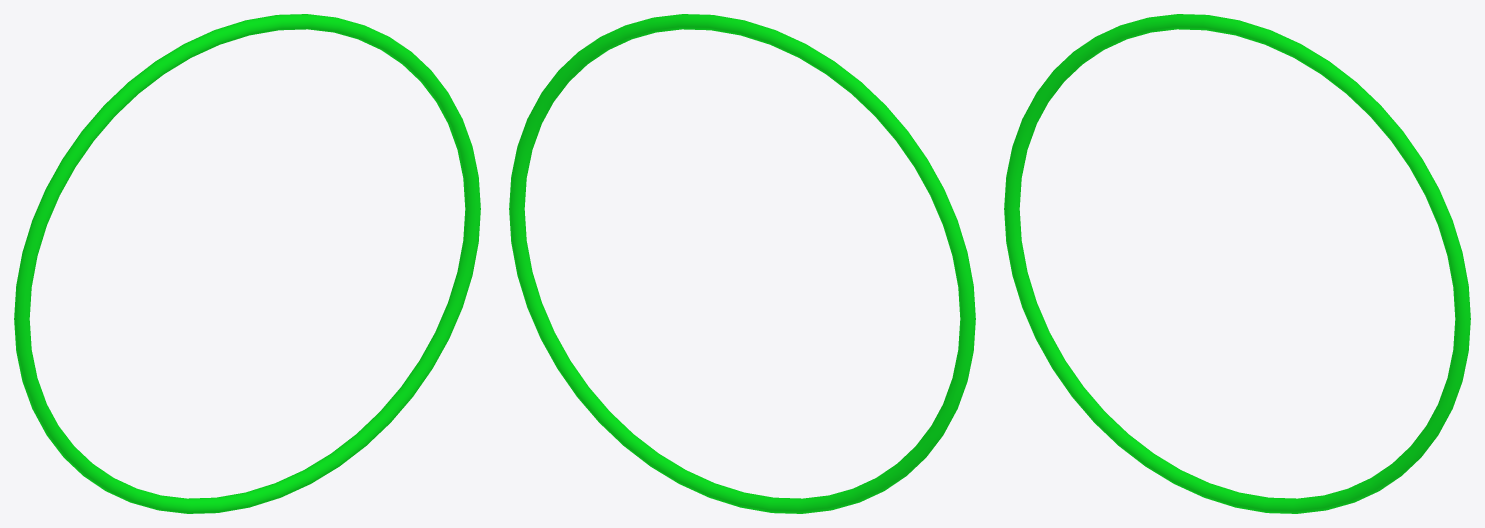
The model's file is rotate_gizmo_y.gltf.
The picture shows the model from 3 angles, left to right: view 1: azimuth 30°, elevation 25°; view 2: azimuth 150°, elevation 25°; view 3: azimuth 330°, elevation 25°; orthographic projection.
Visible parts, largest first — view 1: Y; view 2: Y; view 3: Y.
Boxes of the visible parts, box(x1,y1,x2,y2) form: Y: box(14, 14, 480, 513); Y: box(509, 14, 975, 513); Y: box(1004, 14, 1470, 513).
Bounding box in the file's own units: 1.81 × 1.81 × 0.0528.
